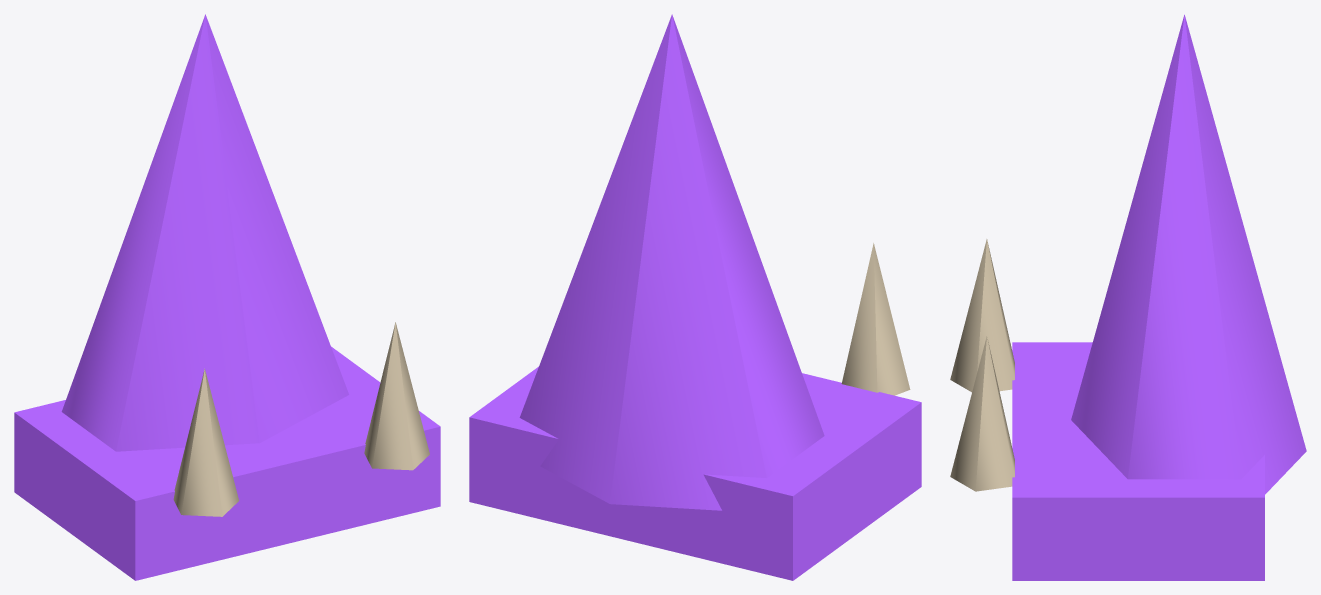
The model's file is fox_mouth.glb.
The picture shows the model from 3 angles, left to right: view 1: azimuth 30°, elevation 25°; view 2: azimuth 150°, elevation 25°; view 3: azimuth 270°, elevation 25°; orthographic projection. The views are drawn at different scales.
Parts seen in each view (by area): view 1: upper_jaw, lower_jaw, fang_0, fang_1; view 2: upper_jaw, lower_jaw, fang_0; view 3: upper_jaw, lower_jaw, fang_1, fang_0.
Boxes of the visible parts, bbox=[...] form: upper_jaw: bbox=[61, 14, 348, 451]; lower_jaw: bbox=[14, 346, 440, 580]; fang_0: bbox=[173, 368, 239, 516]; fang_1: bbox=[364, 322, 429, 470]; upper_jaw: bbox=[519, 14, 824, 510]; lower_jaw: bbox=[469, 366, 921, 580]; fang_0: bbox=[841, 243, 910, 395]; upper_jaw: bbox=[1071, 14, 1306, 494]; lower_jaw: bbox=[1012, 342, 1264, 580]; fang_1: bbox=[950, 336, 1014, 491]; fang_0: bbox=[950, 239, 1014, 392].
Bounding box in the file's own units: 0.8 × 1.17 × 0.776.
